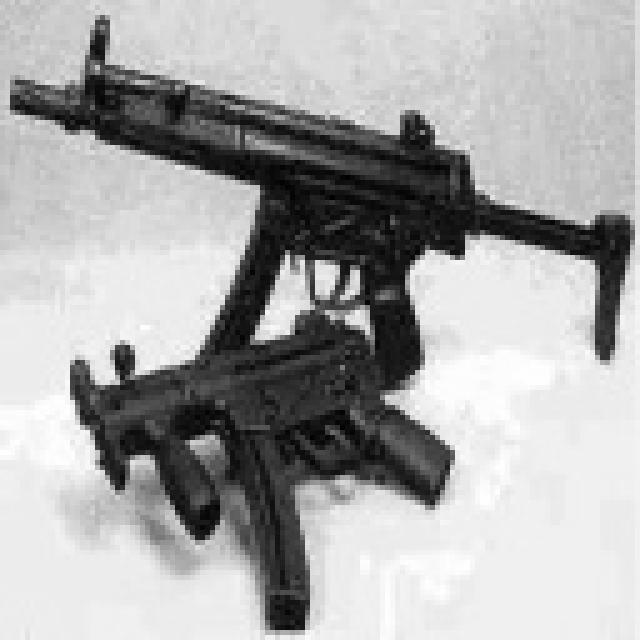Rifle: (0, 2, 640, 395), (41, 301, 494, 640)
